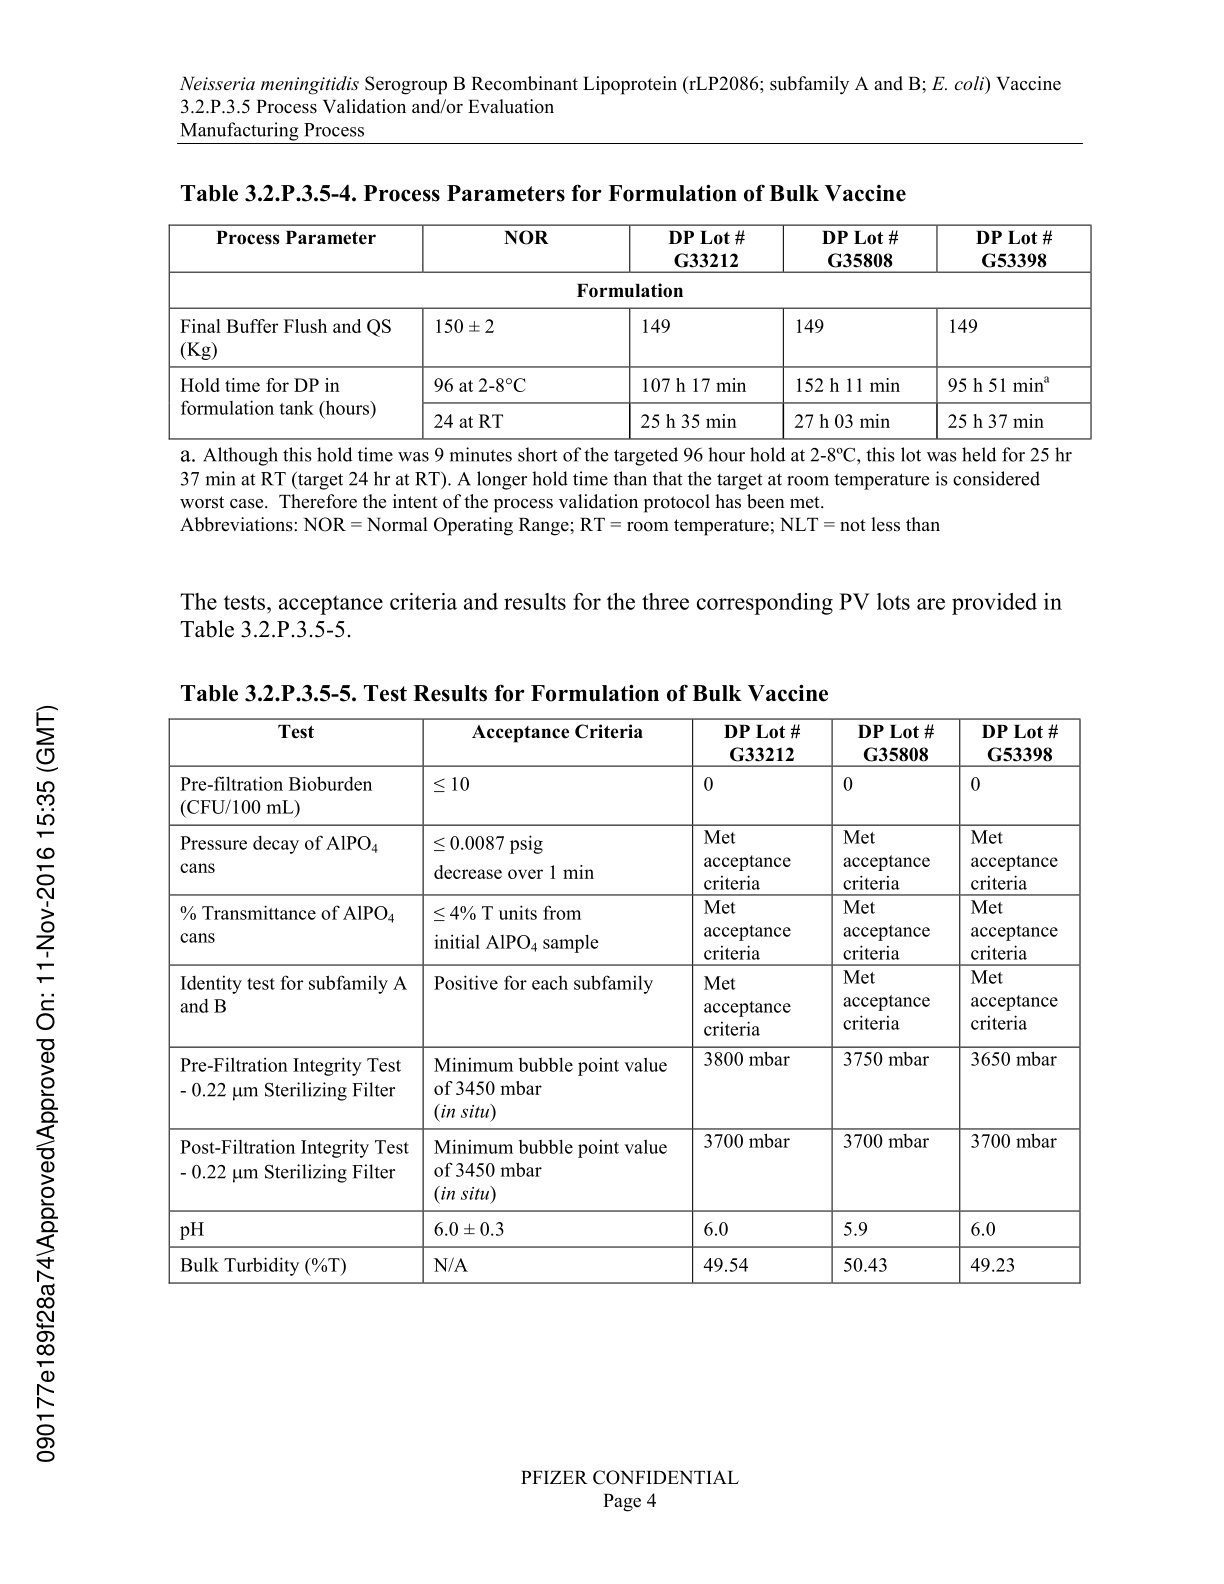full_lined: (167, 717, 1083, 1284)
merged_cells: (167, 222, 1092, 441)
